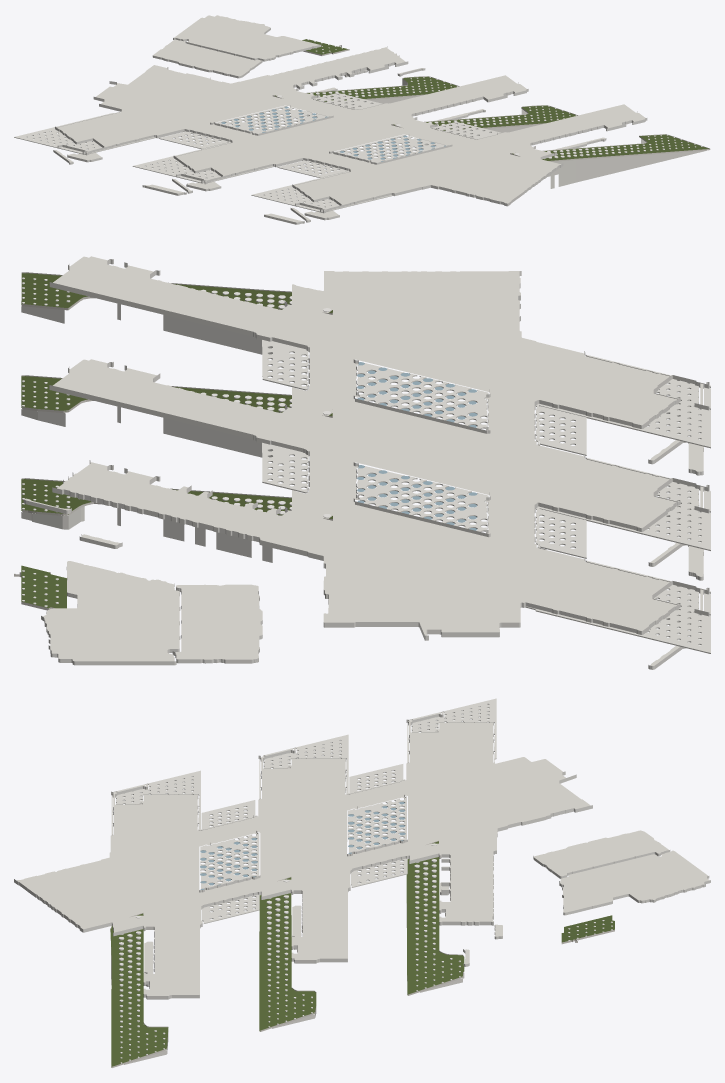
Rendered from roof.glb.
3 views of the same model, one above another, from view 1: azimuth 30°, elevation 25°; view 2: azimuth 150°, elevation 25°; view 3: azimuth 270°, elevation 25° (orthographic). The views are drawn at different scales.
Visible parts, largest first — view 1: roof_top, grc_canopy, parapet, green_roof, skirt_grc, drum, upstand, skylight_glass; view 2: roof_top, grc_canopy, parapet, green_roof, skirt_grc, skylight_glass, drum, upstand; view 3: roof_top, green_roof, grc_canopy, parapet, drum, skylight_glass, upstand.
Boxes of the visible parts, left/top/right/bottom form: roof_top: left=54, top=15, right=645, bottom=222; grc_canopy: left=14, top=93, right=501, bottom=212; parapet: left=53, top=28, right=647, bottom=224; green_roof: left=274, top=39, right=708, bottom=160; skirt_grc: left=306, top=79, right=706, bottom=188; drum: left=277, top=39, right=702, bottom=159; upstand: left=272, top=45, right=710, bottom=161; skylight_glass: left=221, top=106, right=445, bottom=161; roof_top: left=24, top=256, right=703, bottom=665; grc_canopy: left=262, top=340, right=710, bottom=653; parapet: left=23, top=259, right=709, bottom=669; green_roof: left=21, top=273, right=332, bottom=608; skirt_grc: left=21, top=303, right=272, bottom=562; skylight_glass: left=357, top=362, right=477, bottom=530; drum: left=22, top=277, right=331, bottom=607; upstand: left=14, top=272, right=332, bottom=610; roof_top: left=16, top=712, right=709, bottom=995; green_roof: left=110, top=841, right=614, bottom=1067; grc_canopy: left=111, top=698, right=496, bottom=923; parapet: left=14, top=714, right=710, bottom=999; drum: left=118, top=843, right=612, bottom=1063; skylight_glass: left=200, top=802, right=405, bottom=889; upstand: left=110, top=840, right=614, bottom=1067.
Size of the model in its own units: 274 by 16.5 by 245.
